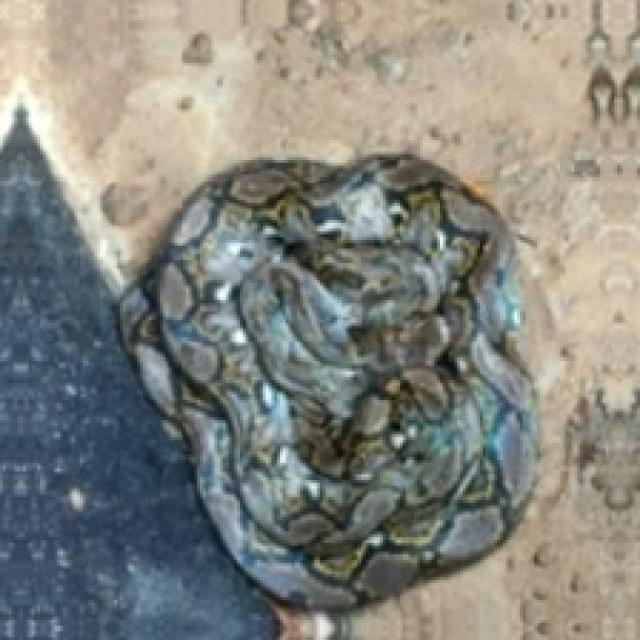reticulated python: (120, 154, 534, 609)
